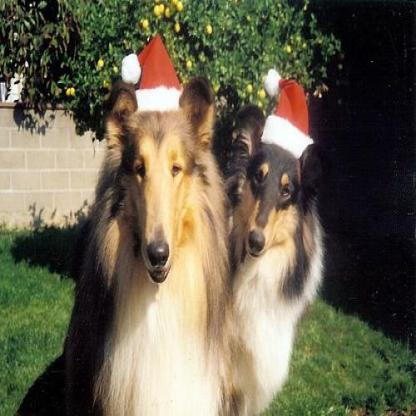collie: (17, 34, 230, 414), (222, 101, 322, 414)
